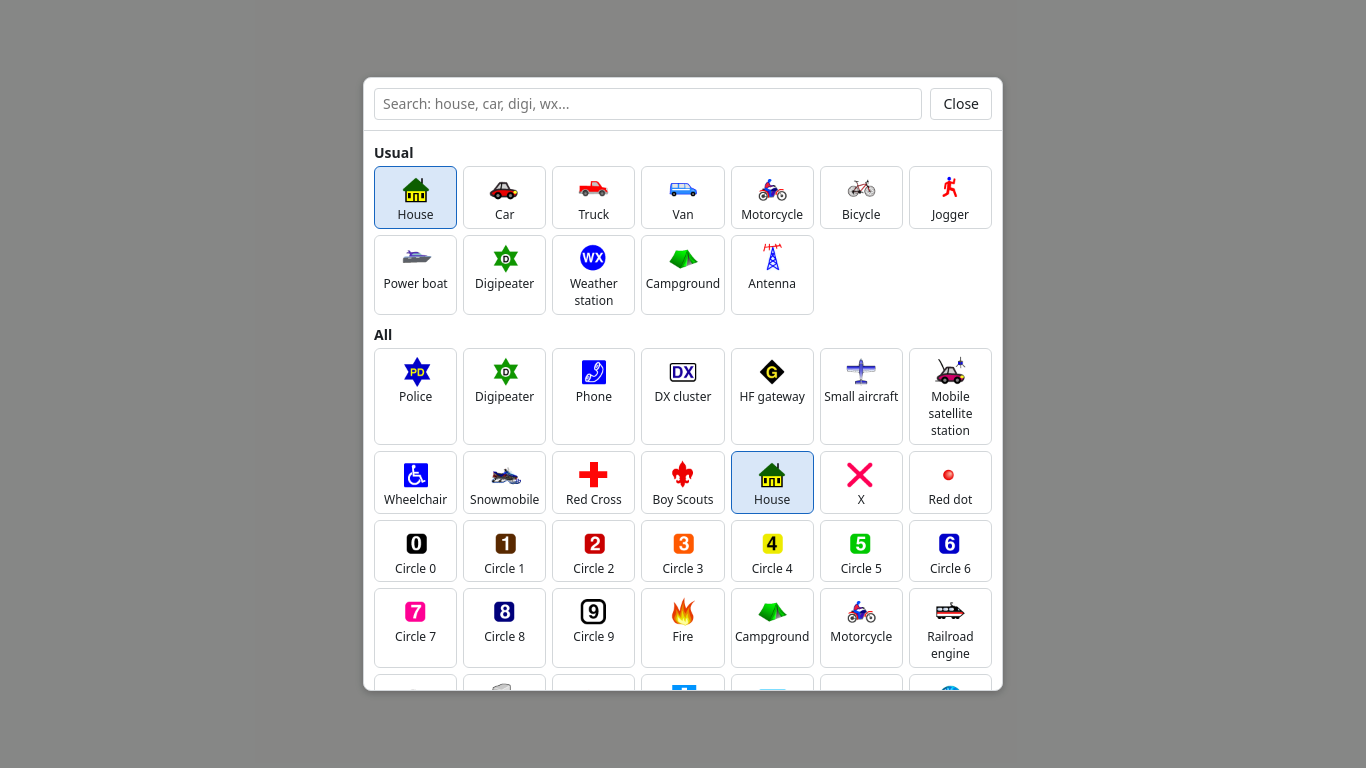
Test: SymbolPicker › says so when no symbol is like that
The width and height of the screenshot is (1366, 768).
Type "zzzz" into the search field with placeholder "Search: house, car, digi, wx...".
click(648, 104); type("zzzz")  # box x1=374 y1=88 x2=922 y2=120
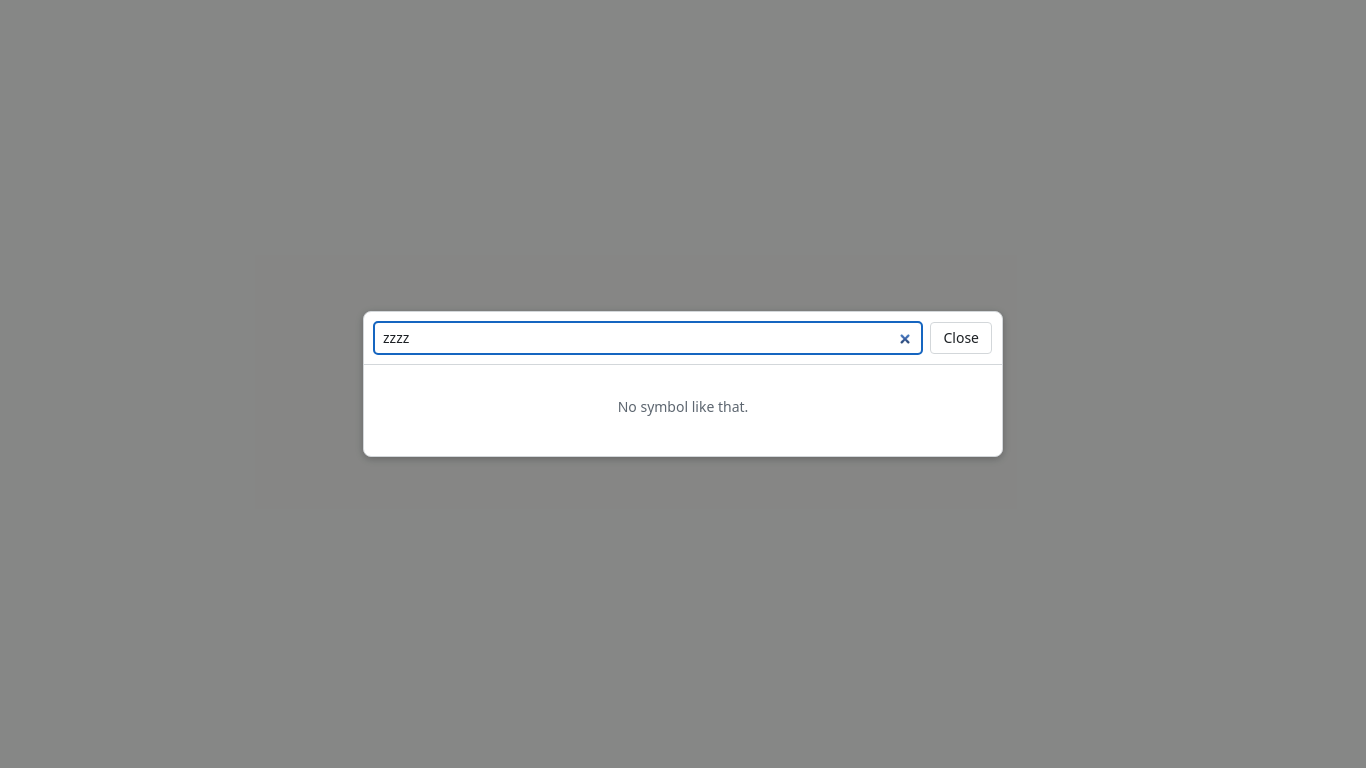
Now the text with class "empty" reads "No symbol like that.", box x1=618 y1=397 x2=748 y2=416
